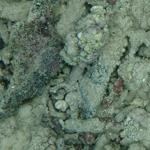dead: (5, 2, 146, 147)
